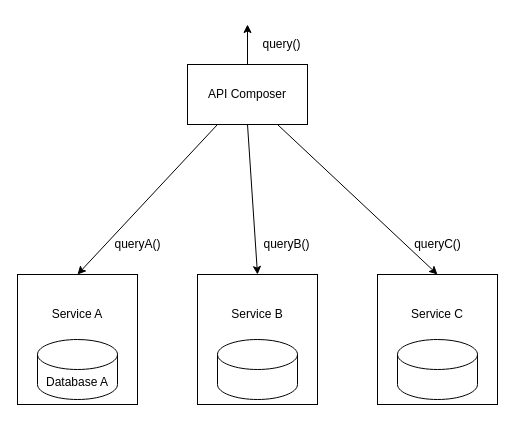
Some shapes in this 515 by 422 pixel diagram are drawn without their labels. The shapes that lost their labels are listed below. From the top down, each one's centre as x and y in pixels, then its label:
At (257,369): "Database B".
At (437,369): "Database C".
